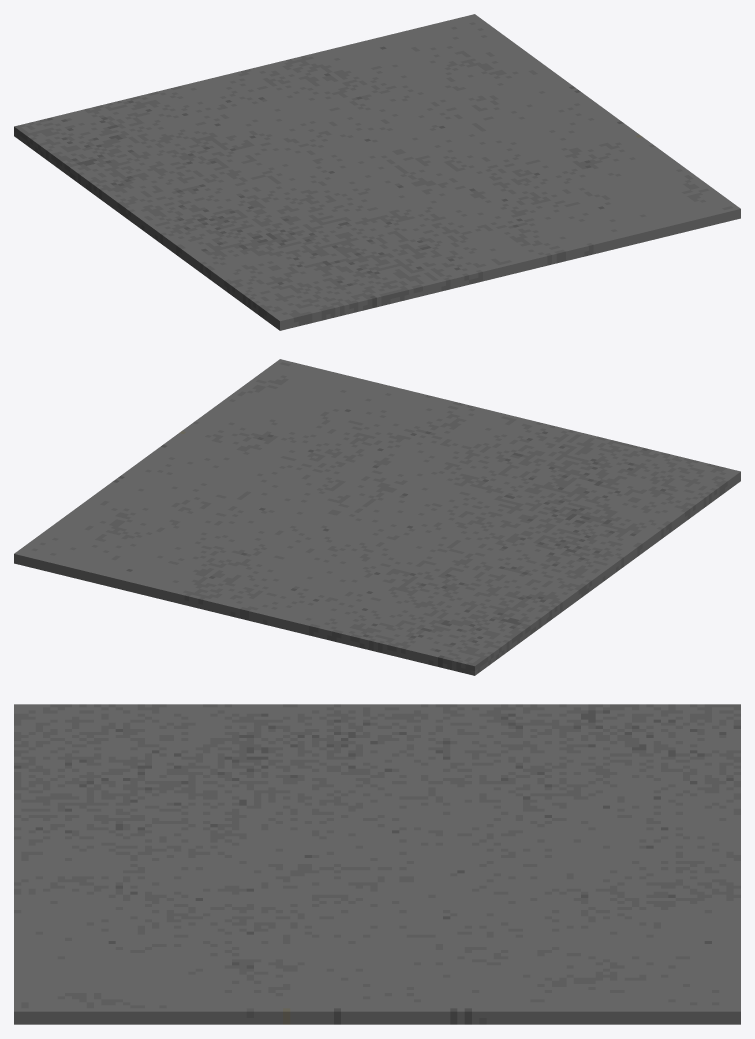
Rendered from Bunker - Free Sample-96-Floor_Light_Gray-5.obj.
3 views of the same model, one above another, from view 1: azimuth 30°, elevation 25°; view 2: azimuth 150°, elevation 25°; view 3: azimuth 270°, elevation 25° (orthographic). The views are drawn at different scales.
Visible parts, largest first — view 1: Floor_Light_Gray-5; view 2: Floor_Light_Gray-5; view 3: Floor_Light_Gray-5.
Boxes of the visible parts, bbox=[...] form: Floor_Light_Gray-5: bbox=[14, 14, 740, 330]; Floor_Light_Gray-5: bbox=[14, 359, 740, 675]; Floor_Light_Gray-5: bbox=[14, 704, 740, 1024].
Bounding box in the file's own units: 2 × 0.04 × 2.
1 material, 1 textured.
